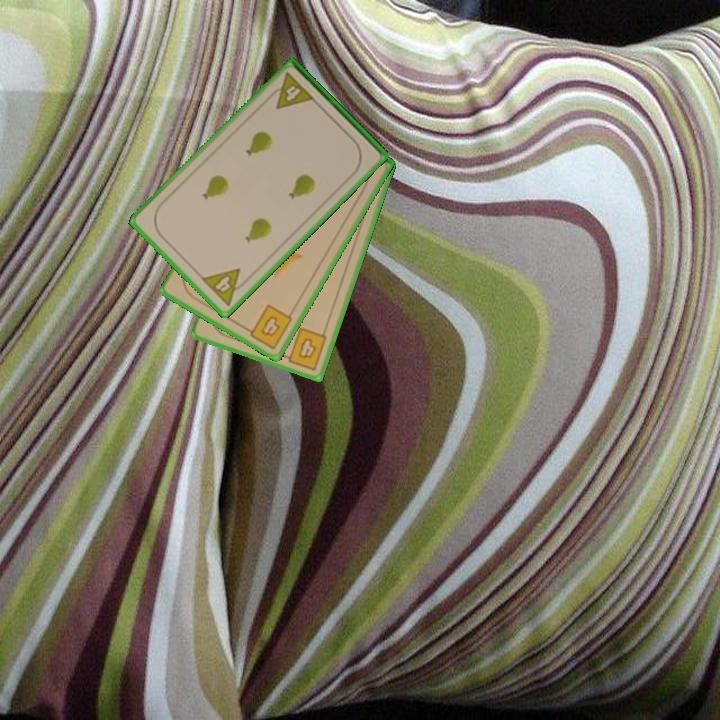4b: (241, 301, 295, 352), (279, 324, 330, 373)
4p: (198, 265, 252, 309), (264, 69, 317, 112)
